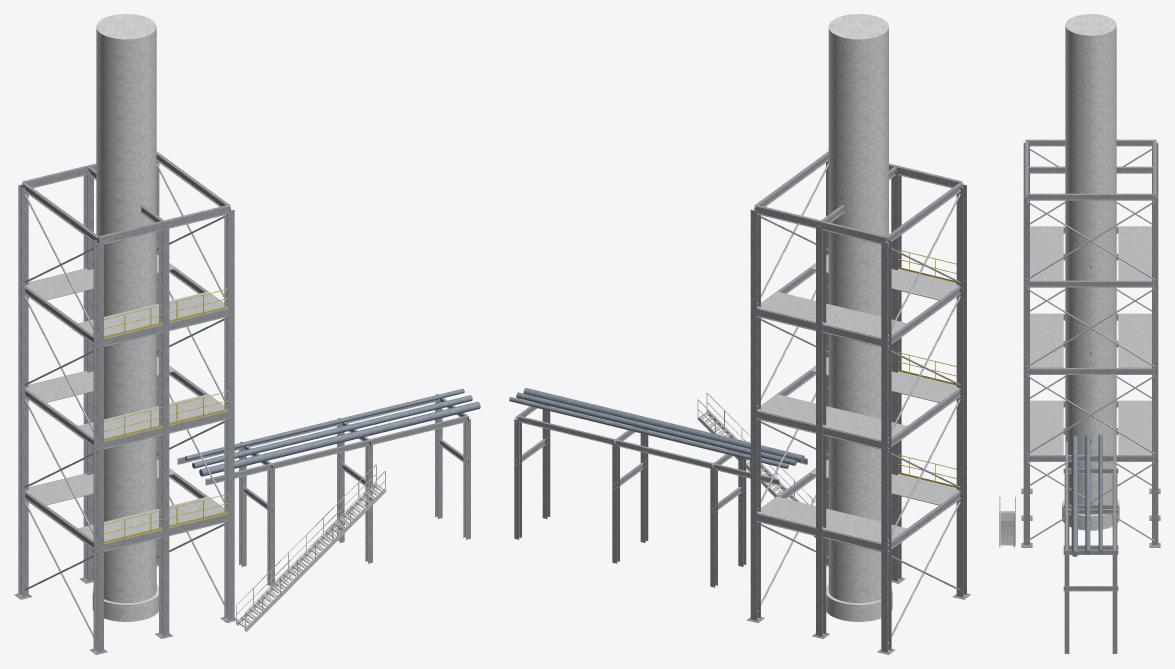
The model's file is carbon-capture-unit-structures.glb.
The picture shows the model from 3 angles, left to right: view 1: azimuth 30°, elevation 25°; view 2: azimuth 150°, elevation 25°; view 3: azimuth 270°, elevation 25°; orthographic projection. The views are drawn at different scales.
Visible parts, largest first — view 1: AbsorberColumn(context), Columns&BasePlates, GratingFloors, FloorBeams&Guides, PipeRack, CO2Pipes(context), Bracing, AccessStair, Handrails; view 2: AbsorberColumn(context), Columns&BasePlates, GratingFloors, FloorBeams&Guides, PipeRack, CO2Pipes(context), Bracing, AccessStair, Handrails; view 3: AbsorberColumn(context), GratingFloors, FloorBeams&Guides, Columns&BasePlates, PipeRack, Bracing, CO2Pipes(context), AccessStair.
Part boxes in pixels (bbox=[...]): AbsorberColumn(context): bbox=[92, 14, 158, 621]; Columns&BasePlates: bbox=[14, 161, 237, 654]; GratingFloors: bbox=[25, 254, 227, 543]; FloorBeams&Guides: bbox=[22, 151, 230, 551]; PipeRack: bbox=[177, 394, 470, 586]; CO2Pipes(context): bbox=[185, 388, 480, 476]; Bracing: bbox=[24, 163, 227, 644]; AccessStair: bbox=[235, 464, 386, 631]; Handrails: bbox=[104, 288, 227, 542]; AbsorberColumn(context): bbox=[826, 14, 892, 621]; Columns&BasePlates: bbox=[747, 161, 970, 654]; GratingFloors: bbox=[757, 254, 959, 543]; FloorBeams&Guides: bbox=[754, 151, 963, 551]; PipeRack: bbox=[514, 402, 807, 587]; CO2Pipes(context): bbox=[509, 388, 804, 468]; Bracing: bbox=[757, 162, 960, 644]; AccessStair: bbox=[697, 392, 815, 537]; Handrails: bbox=[898, 249, 956, 487]; AbsorberColumn(context): bbox=[1062, 14, 1119, 530]; GratingFloors: bbox=[1030, 226, 1151, 454]; FloorBeams&Guides: bbox=[1025, 139, 1156, 461]; Columns&BasePlates: bbox=[1021, 142, 1160, 547]; PipeRack: bbox=[1063, 441, 1118, 654]; Bracing: bbox=[1026, 147, 1155, 541]; CO2Pipes(context): bbox=[1071, 434, 1102, 556]; AccessStair: bbox=[999, 496, 1015, 547].
Size of the model in its own units: 25.35 by 34.08 by 10.07.
Materials: 7 (7 with a texture image).
